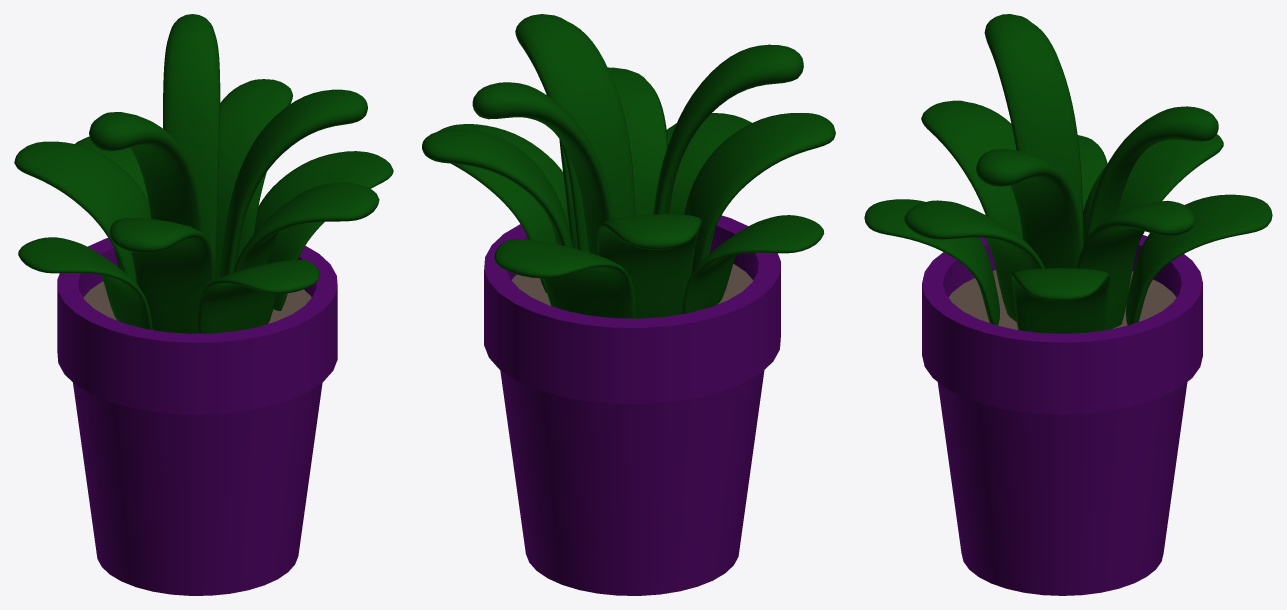
File: Plante2_6.fbx
3 renders of one model, left to right at view 1: azimuth 30°, elevation 25°; view 2: azimuth 150°, elevation 25°; view 3: azimuth 270°, elevation 25°, orthographic. The views are drawn at different scales.
Visible parts, largest first — view 1: pCylinder730, pCube1938, pCube1935, pCube1929, pCube1937, pCube1939, pCube1931, pCube1934, pCube1933, pCube1930, pCube1936, pCylinder731 (+1 smaller); view 2: pCylinder730, pCube1937, pCube1935, pCube1929, pCube1932, pCube1939, pCube1938, pCube1930, pCube1931, pCube1936, pCube1933, pCube1934 (+1 smaller); view 3: pCylinder730, pCube1939, pCube1937, pCube1933, pCube1935, pCube1932, pCube1931, pCube1930, pCube1938, pCube1929, pCube1934, pCylinder731 (+1 smaller).
Boxes of the visible parts, left/top/right/bottom form: pCylinder730: left=57, top=238, right=337, bottom=595; pCube1938: left=163, top=14, right=220, bottom=278; pCube1935: left=110, top=218, right=214, bottom=333; pCube1929: left=14, top=141, right=151, bottom=282; pCube1937: left=219, top=89, right=367, bottom=277; pCube1939: left=89, top=112, right=203, bottom=233; pCube1931: left=215, top=79, right=292, bottom=280; pCube1934: left=198, top=259, right=319, bottom=333; pCube1933: left=254, top=151, right=393, bottom=310; pCube1930: left=233, top=182, right=379, bottom=272; pCube1936: left=18, top=237, right=152, bottom=329; pCylinder731: left=83, top=281, right=311, bottom=323; pCylinder730: left=484, top=215, right=780, bottom=595; pCube1937: left=515, top=14, right=635, bottom=252; pCube1935: left=684, top=113, right=835, bottom=274; pCube1929: left=597, top=214, right=702, bottom=318; pCube1932: left=494, top=239, right=635, bottom=318; pCube1939: left=653, top=44, right=803, bottom=214; pCube1938: left=472, top=82, right=613, bottom=254; pCube1930: left=559, top=67, right=668, bottom=249; pCube1931: left=422, top=129, right=573, bottom=247; pCube1936: left=681, top=215, right=824, bottom=314; pCube1933: left=438, top=124, right=569, bottom=293; pCube1934: left=666, top=113, right=751, bottom=256; pCylinder730: left=922, top=235, right=1202, bottom=595; pCube1939: left=984, top=14, right=1083, bottom=246; pCube1937: left=976, top=149, right=1082, bottom=268; pCube1933: left=1011, top=268, right=1110, bottom=333; pCube1935: left=921, top=100, right=1022, bottom=238; pCube1932: left=1126, top=194, right=1272, bottom=325; pCube1931: left=1077, top=200, right=1195, bottom=330; pCube1930: left=904, top=200, right=1044, bottom=321; pCube1938: left=1085, top=106, right=1218, bottom=240; pCube1929: left=1083, top=134, right=1223, bottom=244; pCube1934: left=864, top=199, right=999, bottom=325; pCylinder731: left=948, top=270, right=1176, bottom=329.
Bounding box in the file's own units: 16.65 × 21.16 × 16.27.
